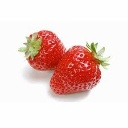strawberry: (49, 44, 102, 96), (22, 31, 71, 72)
